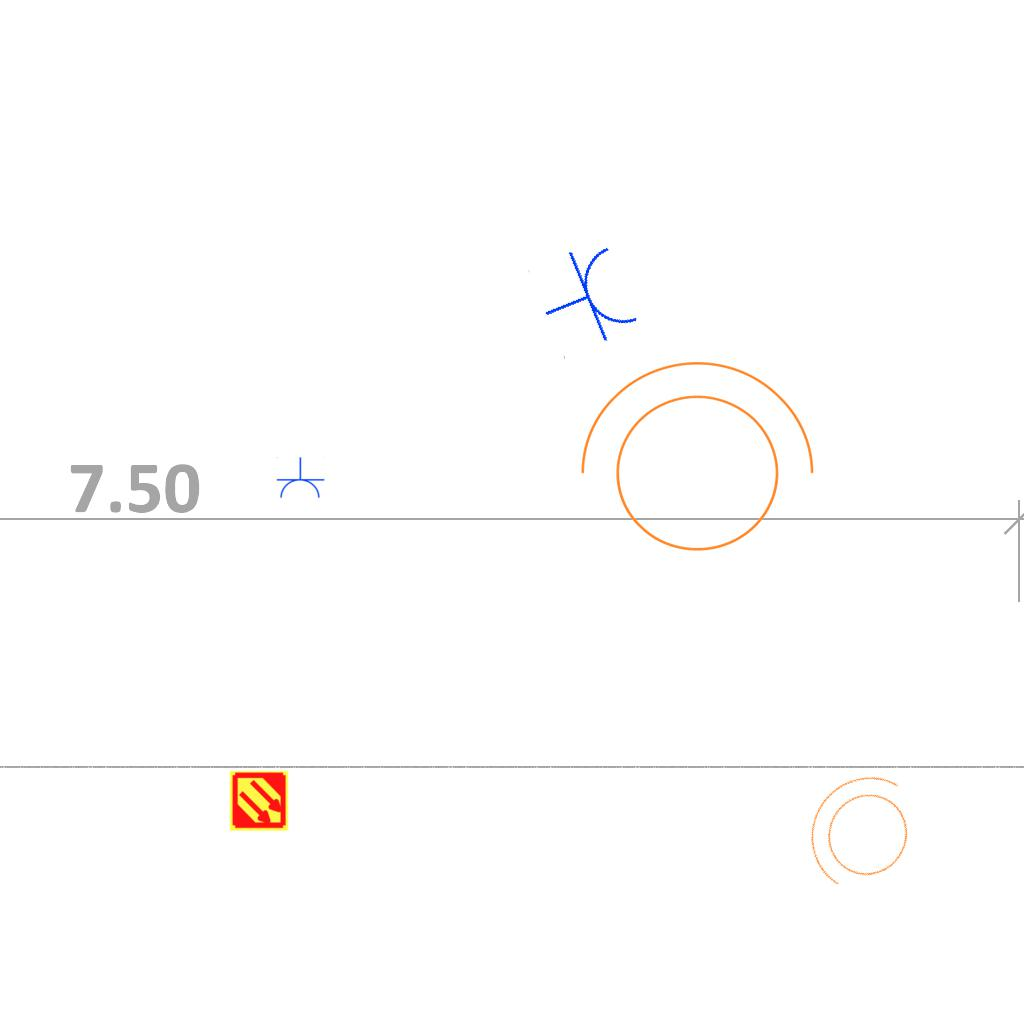ASR_Ansaugrauchmelder: (228, 770, 290, 832)
Scheinwerfer_fuer_Alarmbeleuchtung: (559, 351, 823, 576), (780, 749, 944, 921)
Schukosteckdose_einfach: (526, 235, 646, 362), (275, 457, 325, 500)
